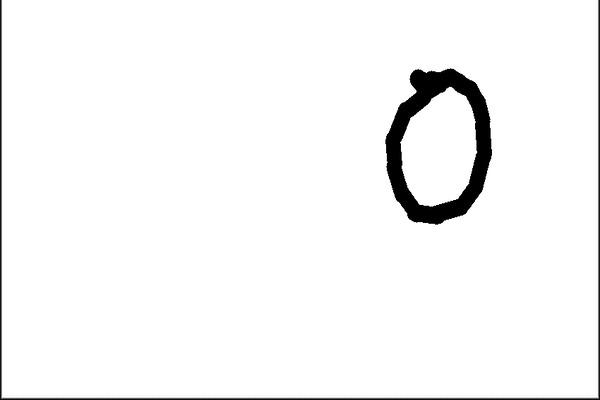O: (364, 53, 503, 232)
